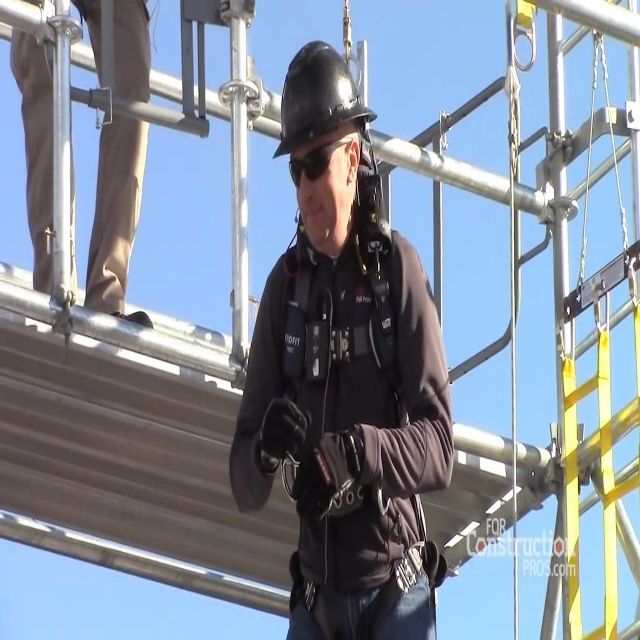Arnes_seguridad: (278, 74, 434, 640)
